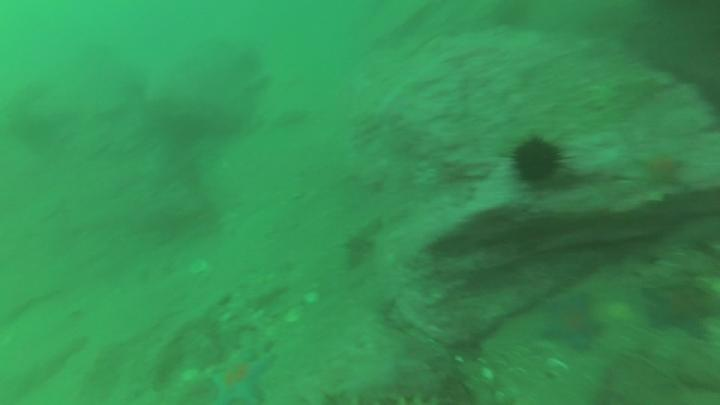echinus: (504, 133, 569, 188), (490, 1, 530, 33)
holothurian: (588, 69, 669, 130), (315, 383, 471, 405)
starfish: (641, 278, 718, 342), (538, 284, 606, 355), (203, 353, 278, 405), (632, 146, 688, 191)
